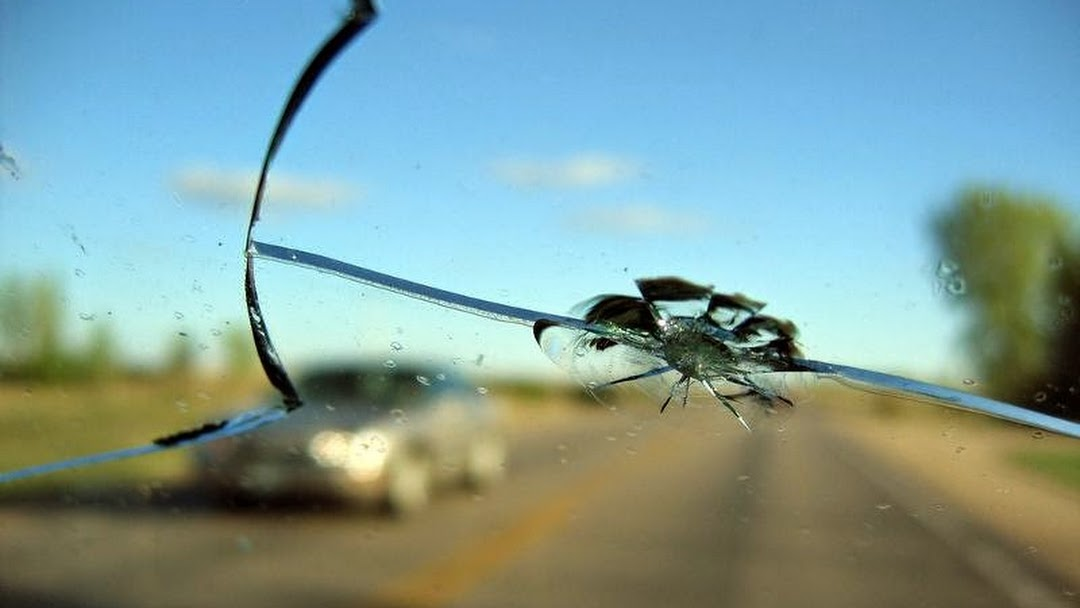bullseye: (508, 255, 858, 460)
scratch: (229, 4, 456, 449), (873, 351, 1080, 460)
